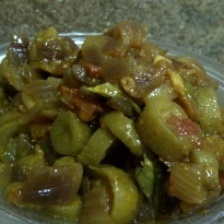sabzi: (0, 20, 224, 224)
